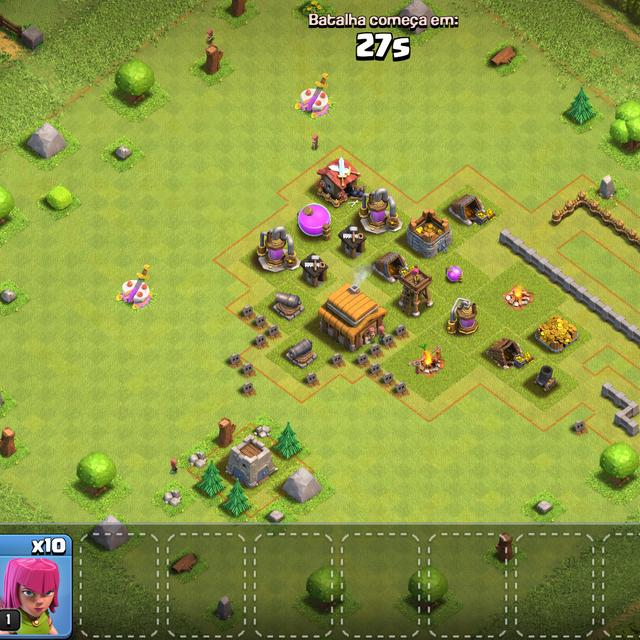Arqueira: (396, 264, 436, 318)
Canhao: (270, 290, 308, 322), (284, 338, 320, 370)
